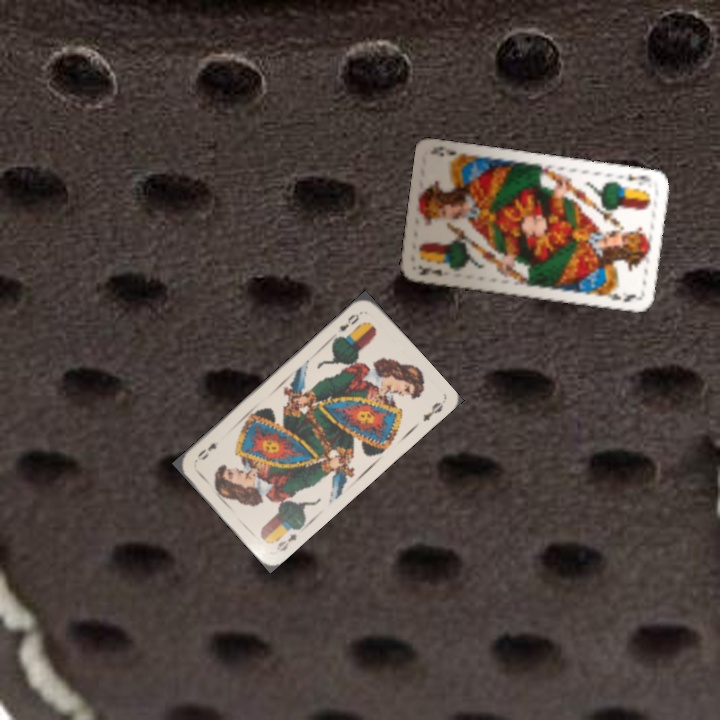EK: (624, 169, 654, 188), (414, 261, 445, 279)
EO: (333, 309, 362, 341), (272, 529, 299, 554)
